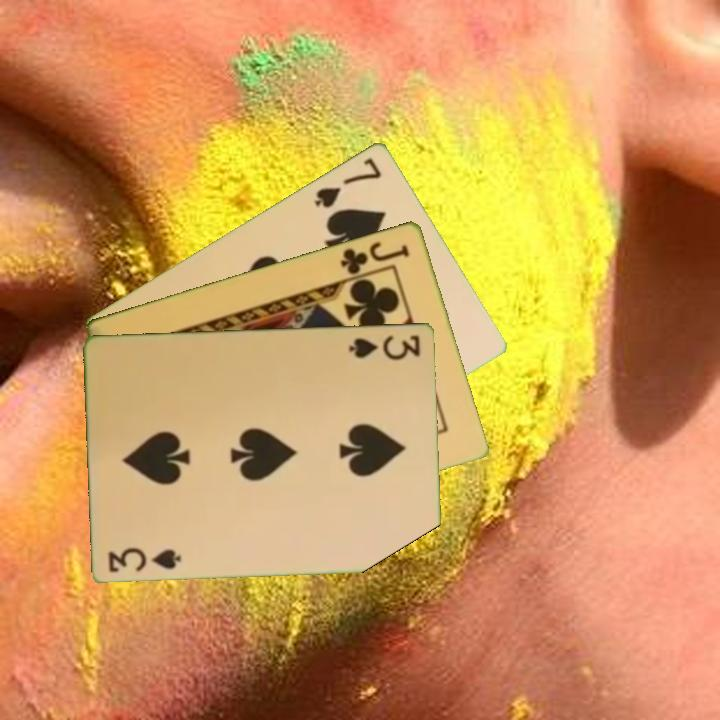3s: (345, 331, 424, 362), (105, 543, 184, 574)
7s: (310, 153, 385, 210)
Jc: (337, 237, 412, 277)
